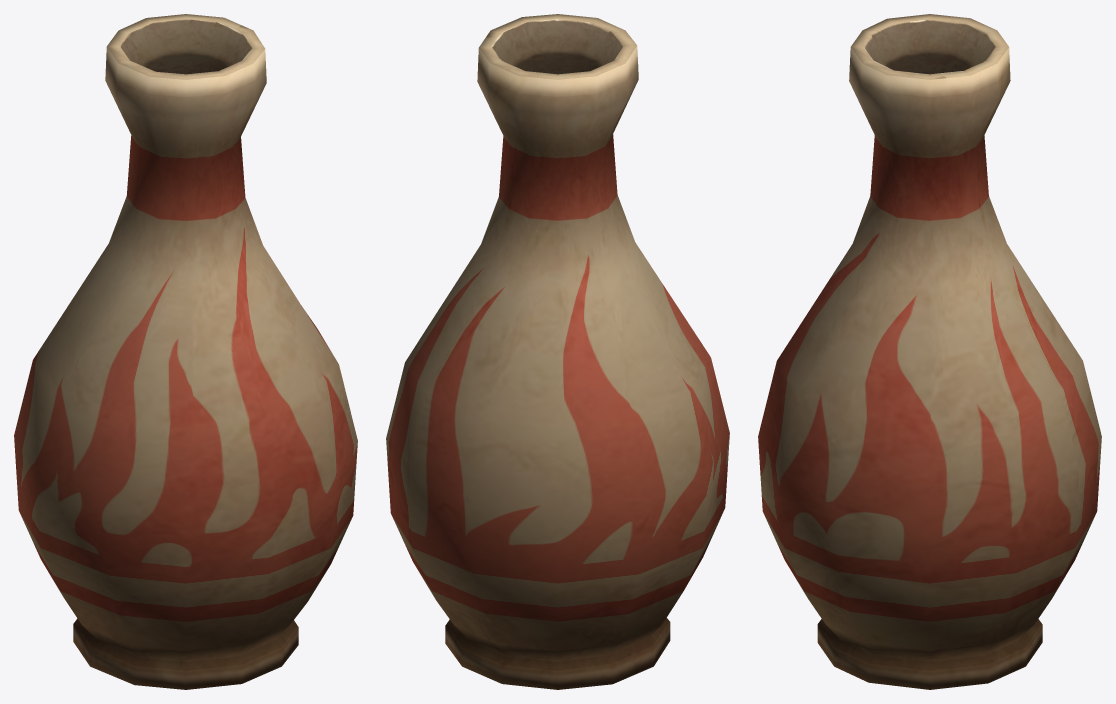
The model's file is VesselFire01.FBX.
3 views of the same model, side by side, from view 1: azimuth 30°, elevation 25°; view 2: azimuth 150°, elevation 25°; view 3: azimuth 270°, elevation 25° (orthographic).
Parts seen in each view (by area): view 1: vasija1; view 2: vasija1; view 3: vasija1.
Part boxes in pixels (bbox=[...]): vasija1: bbox=[14, 14, 357, 689]; vasija1: bbox=[386, 14, 729, 689]; vasija1: bbox=[758, 14, 1101, 689].
Size of the model in its own units: 0.4579 by 0.4563 by 0.873.
